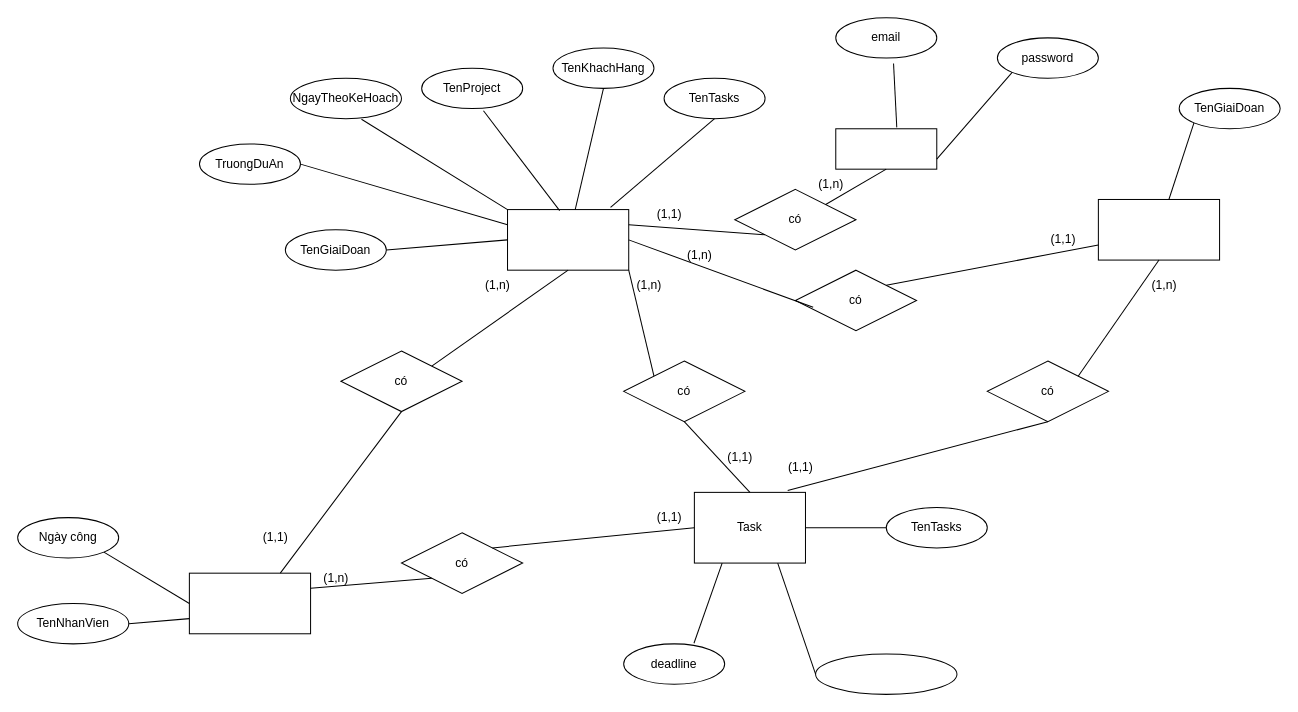
Some shapes in this 1298 by 712 pixel diagram are drawn without their labels. The shapes that lost their labels are listed below. From the top down, each one's centre as x and y in pixels, then its label:
the point at 886,148: Account
the point at 568,239: Project
the point at 1158,229: Project Stages
the point at 249,603: Timesheet
the point at 886,673: TenNhanVienLamTask
